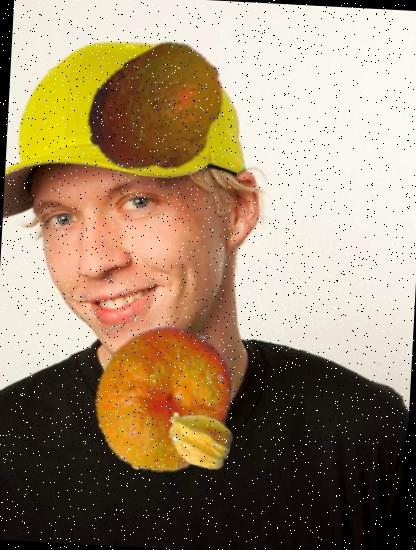Mandarine: (86, 321, 244, 479), (82, 36, 234, 188)
Physalis: (163, 404, 233, 474)
